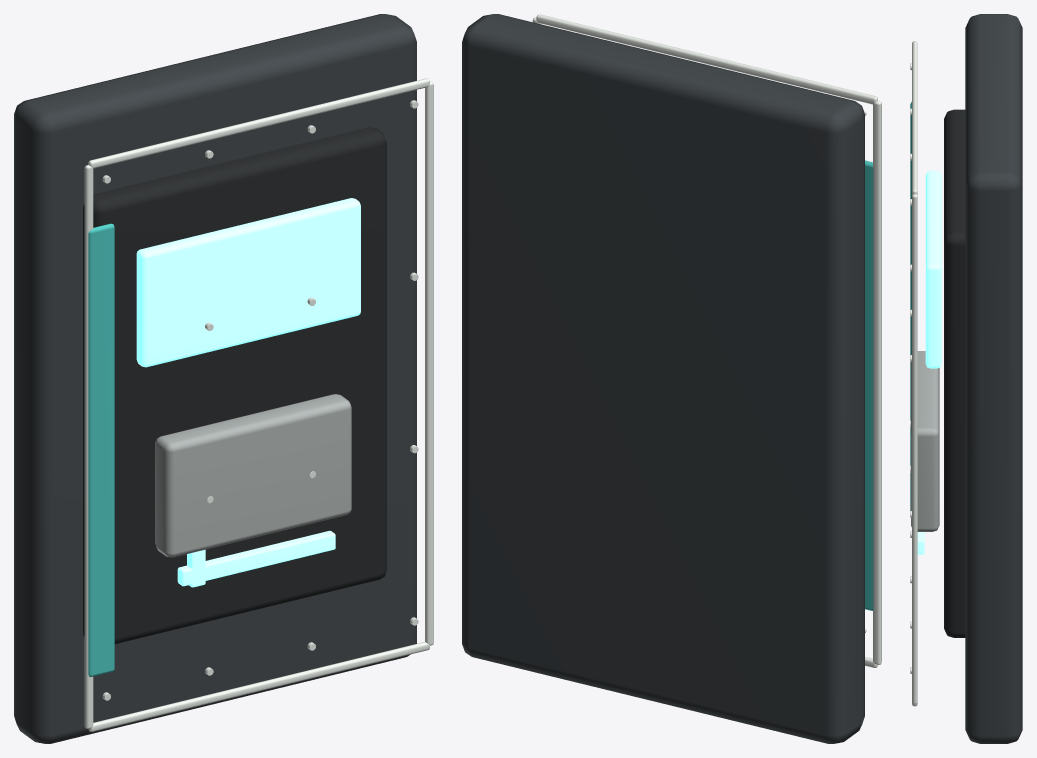
Rendered from hp_switch_panel_wall_cyan.glb.
3 renders of one model, left to right at view 1: azimuth 30°, elevation 25°; view 2: azimuth 150°, elevation 25°; view 3: azimuth 270°, elevation 25°, orthographic. The views are drawn at different scales.
Parts seen in each view (by area): view 1: switch_panel_wall_cyan_backplate, switch_panel_wall_cyan_recessed_face, switch_panel_wall_cyan_status_screen, switch_panel_wall_cyan_hand_plate, switch_panel_wall_cyan_wall_switch_color_spine_art_color_blo, switch_panel_wall_cyan_switch_trim_trim_right, switch_panel_wall_cyan_switch_trim_trim_left, switch_panel_wall_cyan_switch_trim_trim_top, switch_panel_wall_cyan_switch_trim_trim_bottom, switch_panel_wall_cyan_route_bar_a; view 2: switch_panel_wall_cyan_backplate, switch_panel_wall_cyan_switch_trim_trim_left, switch_panel_wall_cyan_wall_switch_color_spine_art_color_blo, switch_panel_wall_cyan_switch_trim_trim_top; view 3: switch_panel_wall_cyan_backplate, switch_panel_wall_cyan_recessed_face, switch_panel_wall_cyan_hand_plate, switch_panel_wall_cyan_status_screen, switch_panel_wall_cyan_switch_trim_trim_right, switch_panel_wall_cyan_switch_trim_trim_top, switch_panel_wall_cyan_wall_switch_color_spine_art_color_blo.
Boxes of the visible parts, box(x1,y1,x2,y2) form: switch_panel_wall_cyan_backplate: box(14, 14, 416, 743); switch_panel_wall_cyan_recessed_face: box(83, 127, 386, 643); switch_panel_wall_cyan_status_screen: box(136, 198, 360, 367); switch_panel_wall_cyan_hand_plate: box(155, 394, 351, 557); switch_panel_wall_cyan_wall_switch_color_spine_art_color_blo: box(88, 223, 114, 676); switch_panel_wall_cyan_switch_trim_trim_right: box(425, 81, 433, 645); switch_panel_wall_cyan_switch_trim_trim_left: box(84, 165, 93, 728); switch_panel_wall_cyan_switch_trim_trim_top: box(88, 78, 429, 168); switch_panel_wall_cyan_switch_trim_trim_bottom: box(88, 642, 429, 731); switch_panel_wall_cyan_route_bar_a: box(177, 530, 335, 586); switch_panel_wall_cyan_backplate: box(462, 14, 864, 743); switch_panel_wall_cyan_switch_trim_trim_left: box(873, 101, 881, 664); switch_panel_wall_cyan_wall_switch_color_spine_art_color_blo: box(865, 160, 873, 610); switch_panel_wall_cyan_switch_trim_trim_top: box(536, 14, 877, 104); switch_panel_wall_cyan_backplate: box(965, 14, 1022, 743); switch_panel_wall_cyan_recessed_face: box(944, 109, 965, 637); switch_panel_wall_cyan_hand_plate: box(911, 351, 939, 531); switch_panel_wall_cyan_status_screen: box(925, 171, 941, 368); switch_panel_wall_cyan_switch_trim_trim_right: box(912, 194, 917, 704); switch_panel_wall_cyan_switch_trim_trim_top: box(912, 41, 917, 194); switch_panel_wall_cyan_wall_switch_color_spine_art_color_blo: box(910, 102, 911, 510).
Bounding box in the file's own units: 0.7 × 1.1 × 0.196.
